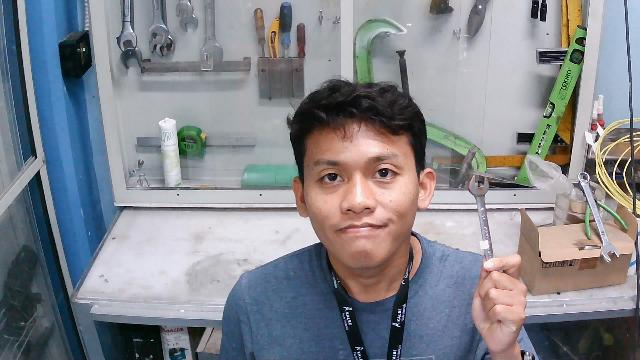kunci_pass_13: (458, 170, 536, 349)
